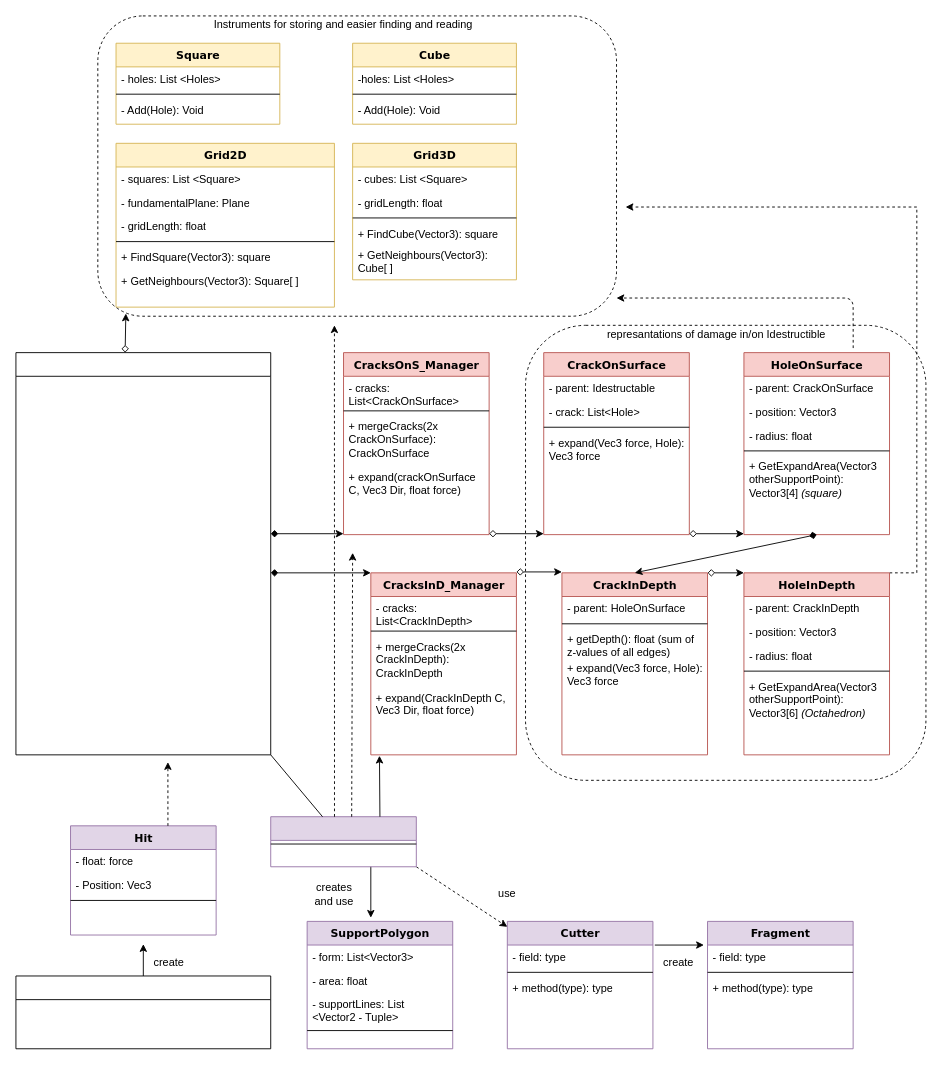
Image size: 942x1065. Some labels were removed from this diagram. The shapes that lost their labels are listed below. From the top down, each one's centre as x and y in pixels, then its label:
At (143,553): "Idestructible".
At (343,841): "HitReceiver".
At (143,1012): "IDestructor".
